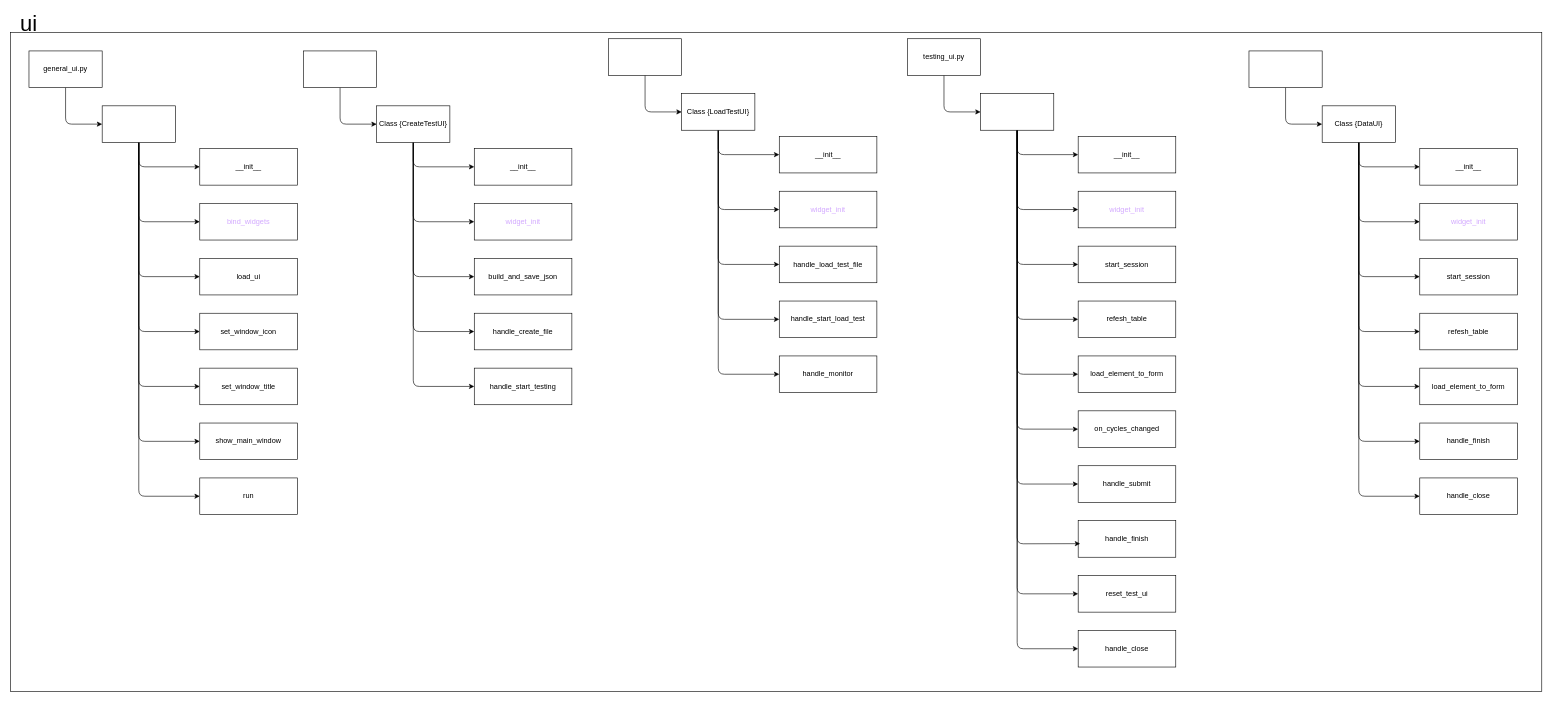
Image size: 1552x702. Some labels were removed from this diagram. The centre of each missing label's shape, as x and y in pixels:
Class {GeneralUI}: (138,123)
Class {TestingUI}: (1017,111)
create_test_ui.py: (340,69)
data_ui.py: (1285,69)
load_test_ui.py: (645,56)
